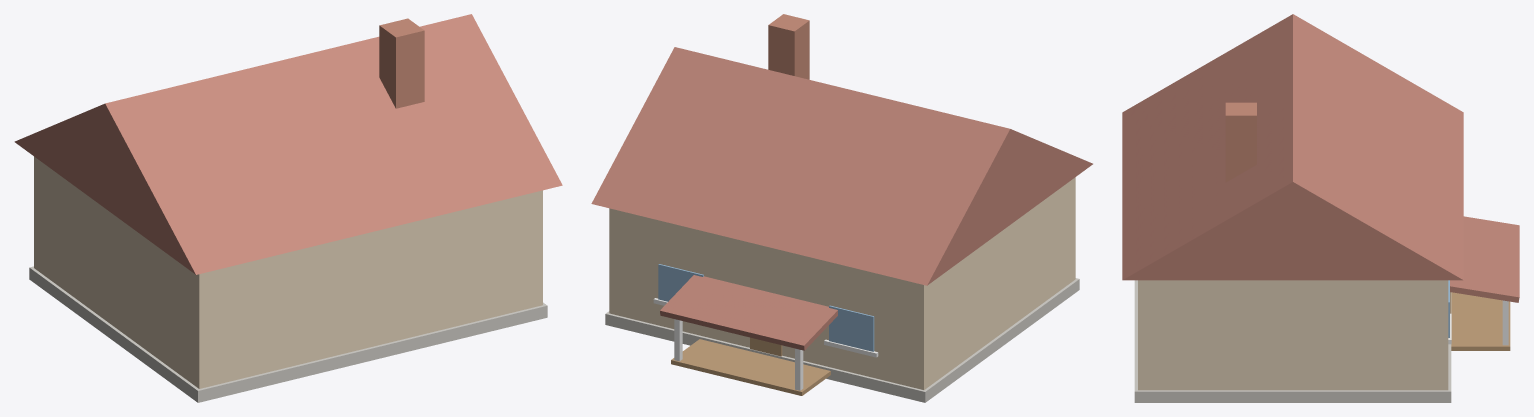
The model's file is B_house.fbx.
3 renders of one model, left to right at view 1: azimuth 30°, elevation 25°; view 2: azimuth 150°, elevation 25°; view 3: azimuth 270°, elevation 25°, orthographic. The views are drawn at different scales.
Parts seen in each view (by area): view 1: Roof.001, Wall.003, Concrete.004, Brick; view 2: Roof.001, Wall.003, Concrete.004, Wood.003, Glass.004, Brick, White.005; view 3: Roof.001, Wall.003, Concrete.004, Wood.003, Brick, White.005.
Boxes of the visible parts, x1=… form: Roof.001: x1=14, y1=14, x2=562, y2=274; Wall.003: x1=34, y1=156, x2=542, y2=388; Concrete.004: x1=29, y1=266, x2=547, y2=402; Brick: x1=379, y1=18, x2=424, y2=108; Roof.001: x1=591, y1=47, x2=1092, y2=350; Wall.003: x1=609, y1=177, x2=1075, y2=389; Concrete.004: x1=605, y1=278, x2=1079, y2=402; Wood.003: x1=671, y1=337, x2=830, y2=395; Glass.004: x1=658, y1=264, x2=874, y2=351; Brick: x1=768, y1=14, x2=809, y2=79; White.005: x1=653, y1=298, x2=878, y2=390; Roof.001: x1=1122, y1=14, x2=1519, y2=302; Wall.003: x1=1138, y1=280, x2=1448, y2=390; Concrete.004: x1=1134, y1=280, x2=1451, y2=402; Wood.003: x1=1450, y1=292, x2=1510, y2=350; Brick: x1=1225, y1=102, x2=1256, y2=182; White.005: x1=1448, y1=300, x2=1508, y2=345.
Bounding box in the file's own units: 2560 × 1800 × 2560.
